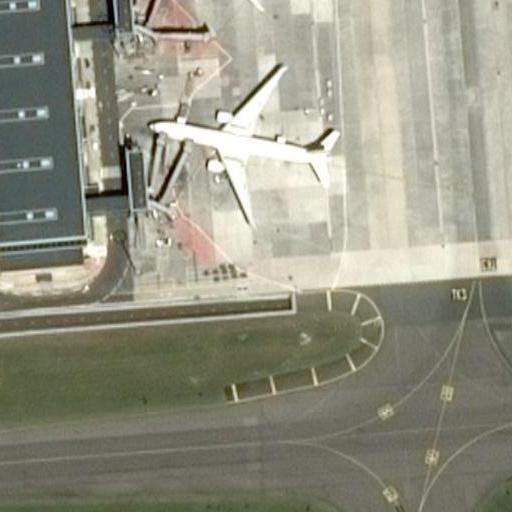Aircraft: (133, 62, 341, 228), (122, 0, 336, 9)
